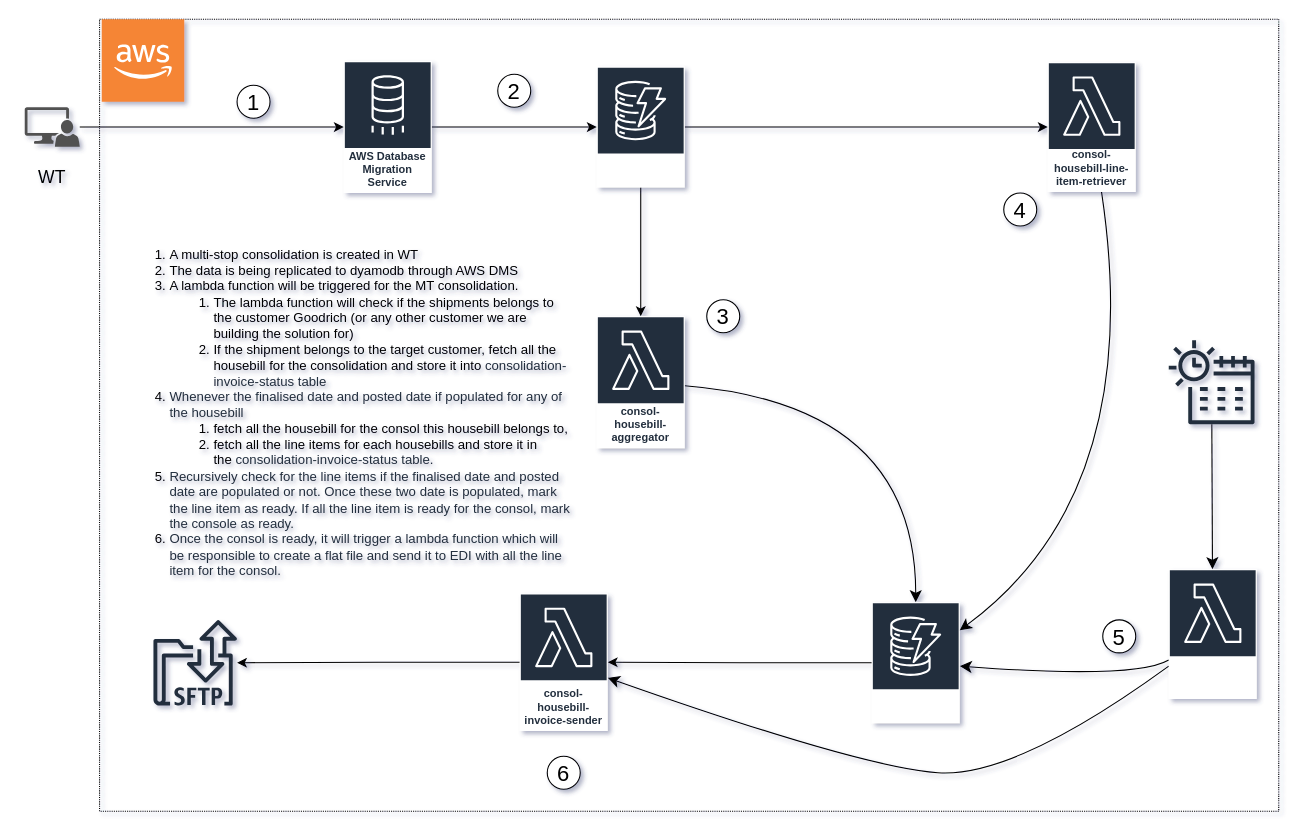
This 1305x837 diagram has some shape labels left out. Here are the shapes that lost their labels. From the top down, the box of each, then its label:
(596, 65, 685, 188): wt-rt-shipmentapar
(1168, 568, 1257, 699): consol-housebill-line-item-checker
(871, 601, 960, 723): consolidation-invoice-status
